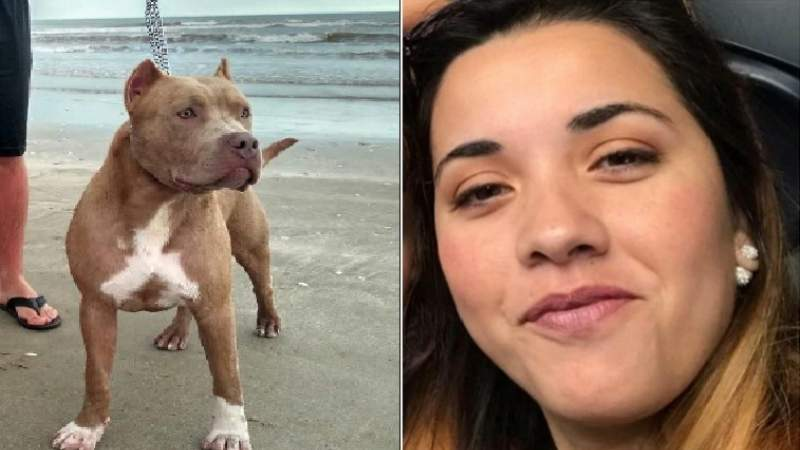Perro Pitbull: (43, 43, 293, 433)
